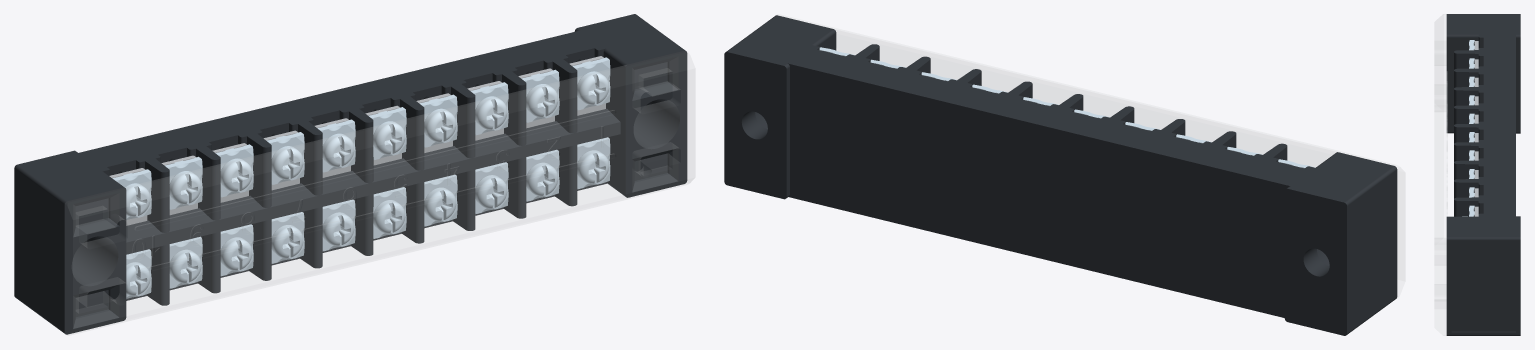
3 views of the same model, side by side, from view 1: azimuth 30°, elevation 25°; view 2: azimuth 150°, elevation 25°; view 3: azimuth 270°, elevation 25° (orthographic). The views are drawn at different scales.
Parts seen in each view (by area): view 1: factory_001, factory_062, factory_054, factory_048, factory_036, factory_042, factory_018, factory_024, factory_030, factory_012, factory_006, factory_052 (+10 smaller); view 2: factory_001, factory_062; view 3: factory_001, factory_062.
Boxes of the visible parts, left/top/right/bottom form: factory_001: left=14, top=14, right=687, bottom=334; factory_062: left=68, top=52, right=694, bottom=335; factory_054: left=164, top=156, right=202, bottom=209; factory_048: left=215, top=144, right=253, bottom=197; factory_036: left=317, top=119, right=355, bottom=172; factory_042: left=266, top=132, right=304, bottom=184; factory_018: left=470, top=82, right=508, bottom=135; factory_024: left=419, top=94, right=457, bottom=147; factory_030: left=368, top=107, right=406, bottom=160; factory_012: left=521, top=69, right=559, bottom=122; factory_006: left=572, top=57, right=610, bottom=110; factory_052: left=169, top=236, right=202, bottom=288; factory_001: left=724, top=15, right=1397, bottom=335; factory_062: left=778, top=14, right=1404, bottom=296; factory_001: left=1446, top=14, right=1520, bottom=335; factory_062: left=1434, top=14, right=1447, bottom=335.
Size of the model in its own units: 0.1075 by 0.022 by 0.0175.
